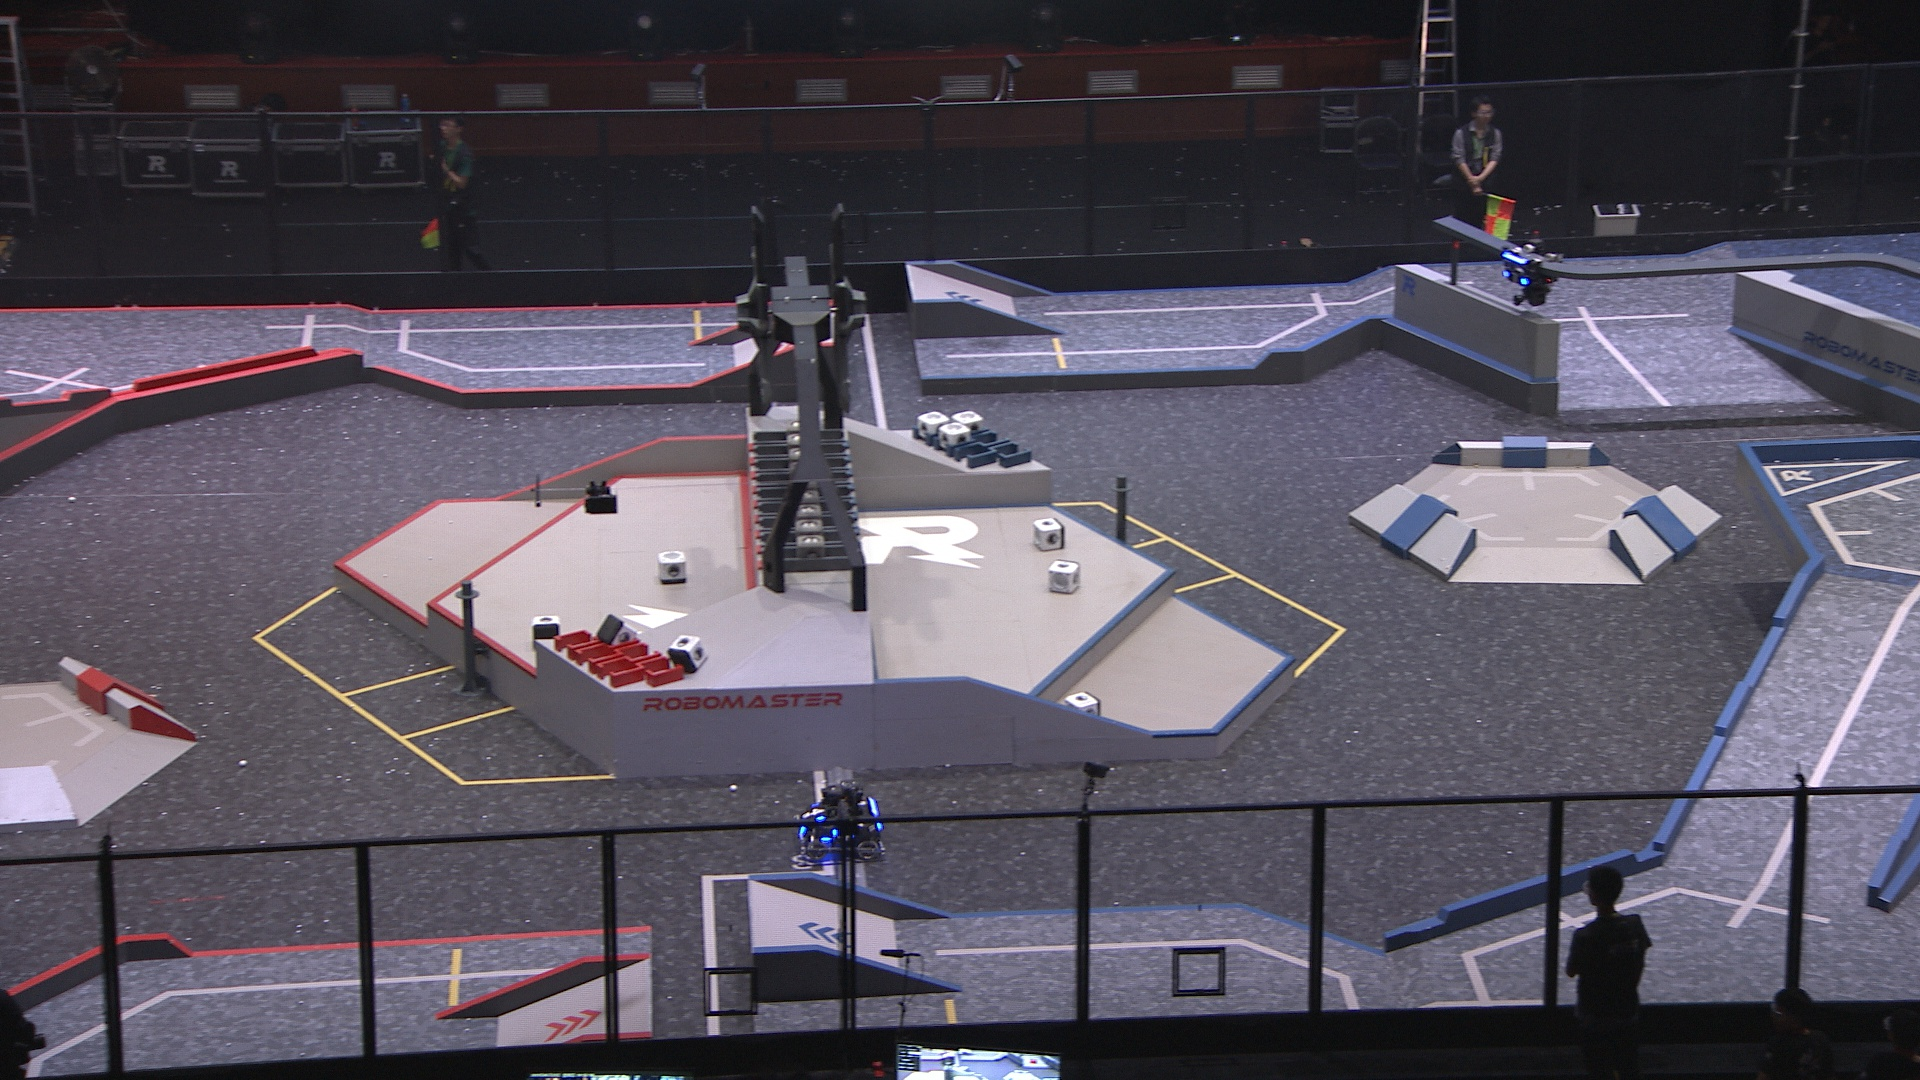armor: (1501, 270, 1531, 287), (811, 802, 825, 825)
car: (793, 782, 889, 862)
watcher: (1499, 237, 1567, 310)
